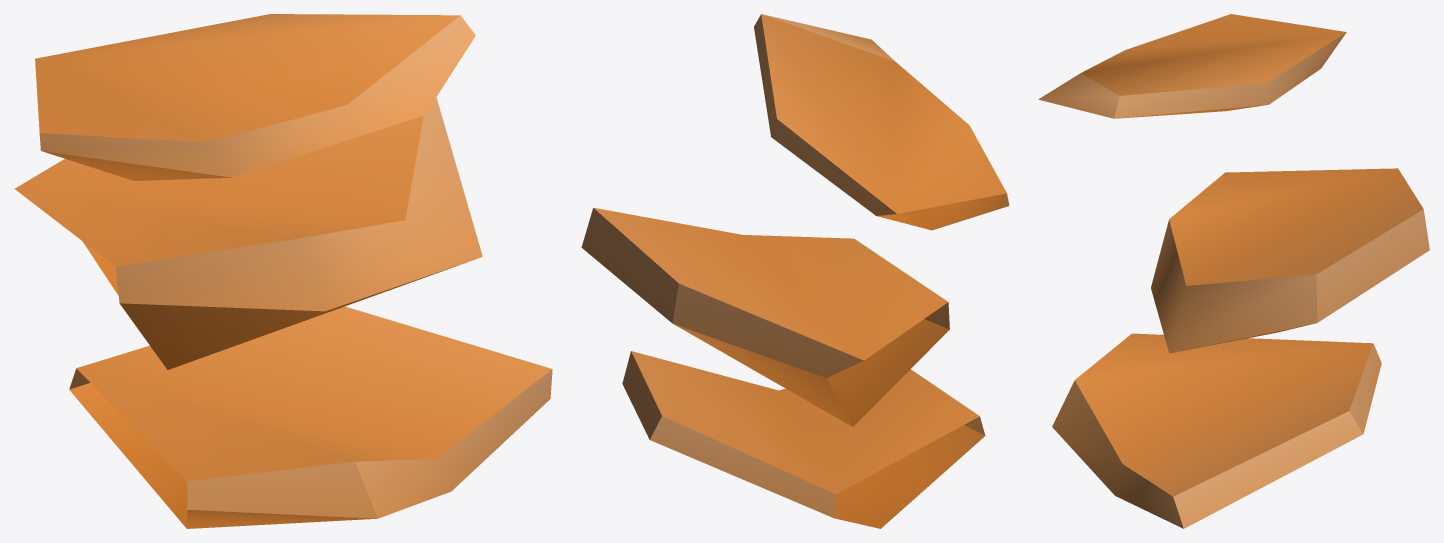
The model's file is Mushroom_D_3.fbx.
3 views of the same model, side by side, from view 1: azimuth 30°, elevation 25°; view 2: azimuth 150°, elevation 25°; view 3: azimuth 270°, elevation 25° (orthographic). The views are drawn at different scales.
Visible parts, largest first — view 1: Mushroom_D_3; view 2: Mushroom_D_3; view 3: Mushroom_D_3.
Boxes of the visible parts, box(x1,y1,x2,y2) form: Mushroom_D_3: box(14, 14, 552, 528); Mushroom_D_3: box(581, 14, 1009, 528); Mushroom_D_3: box(1038, 14, 1429, 528).
Size of the model in its own units: 14.57 by 14.7 by 11.89.
